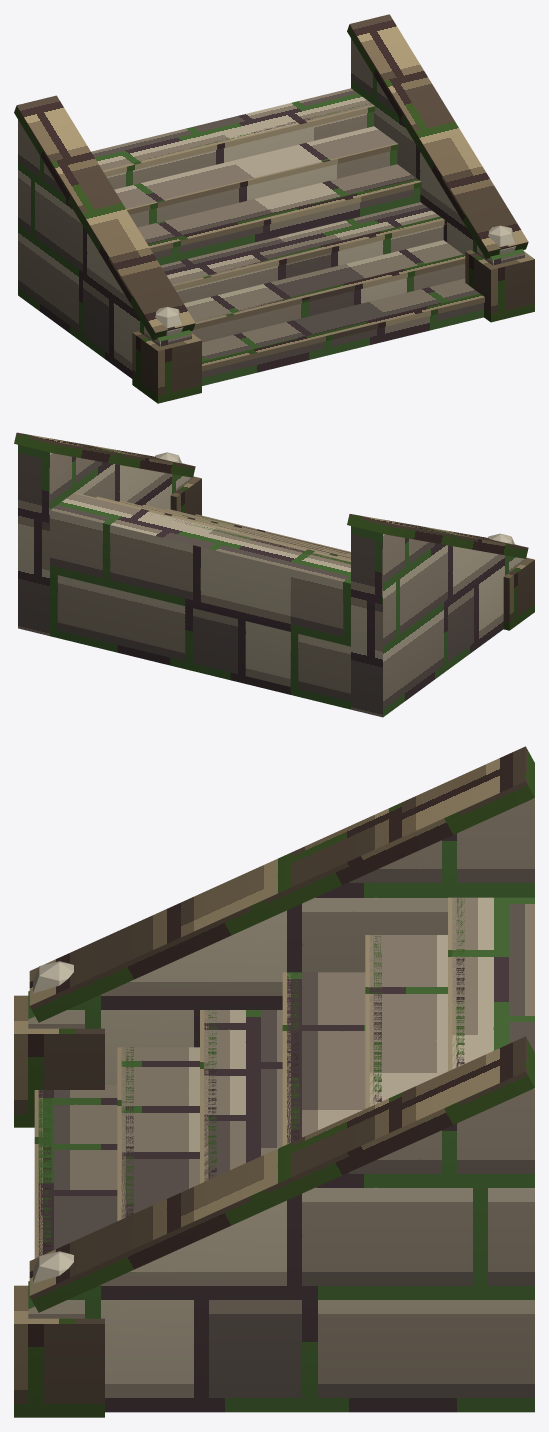
Rendered from scene_stair_c1.glb.
3 views of the same model, one above another, from view 1: azimuth 30°, elevation 25°; view 2: azimuth 150°, elevation 25°; view 3: azimuth 270°, elevation 25° (orthographic). The views are drawn at different scales.
Visible parts, largest first — view 1: scene_stair_c1; view 2: scene_stair_c1; view 3: scene_stair_c1.
Boxes of the visible parts, box(x1,y1,x2,y2) form: scene_stair_c1: box(14, 14, 534, 403); scene_stair_c1: box(14, 432, 534, 717); scene_stair_c1: box(14, 746, 534, 1417).
Bounding box in the file's own units: 3.76 × 1.84 × 2.52.
2 materials, 1 textured.
